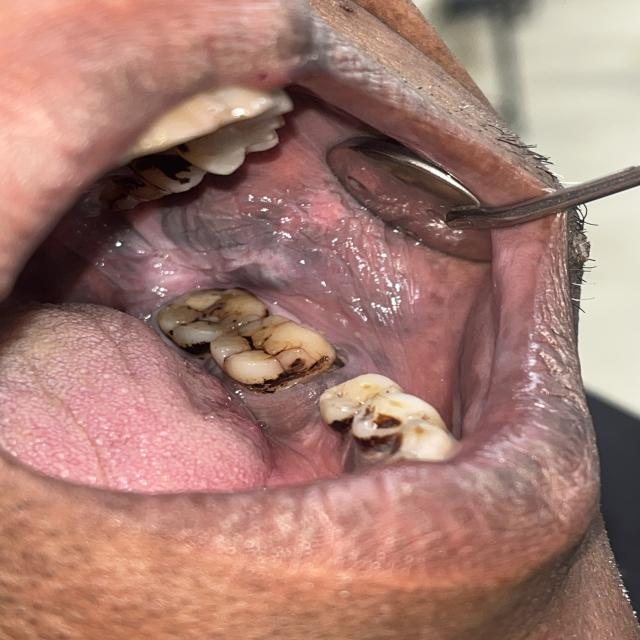leukoplakia-detection: (64, 184, 419, 435)
processing_area: (60, 110, 547, 440), (0, 299, 346, 493)
